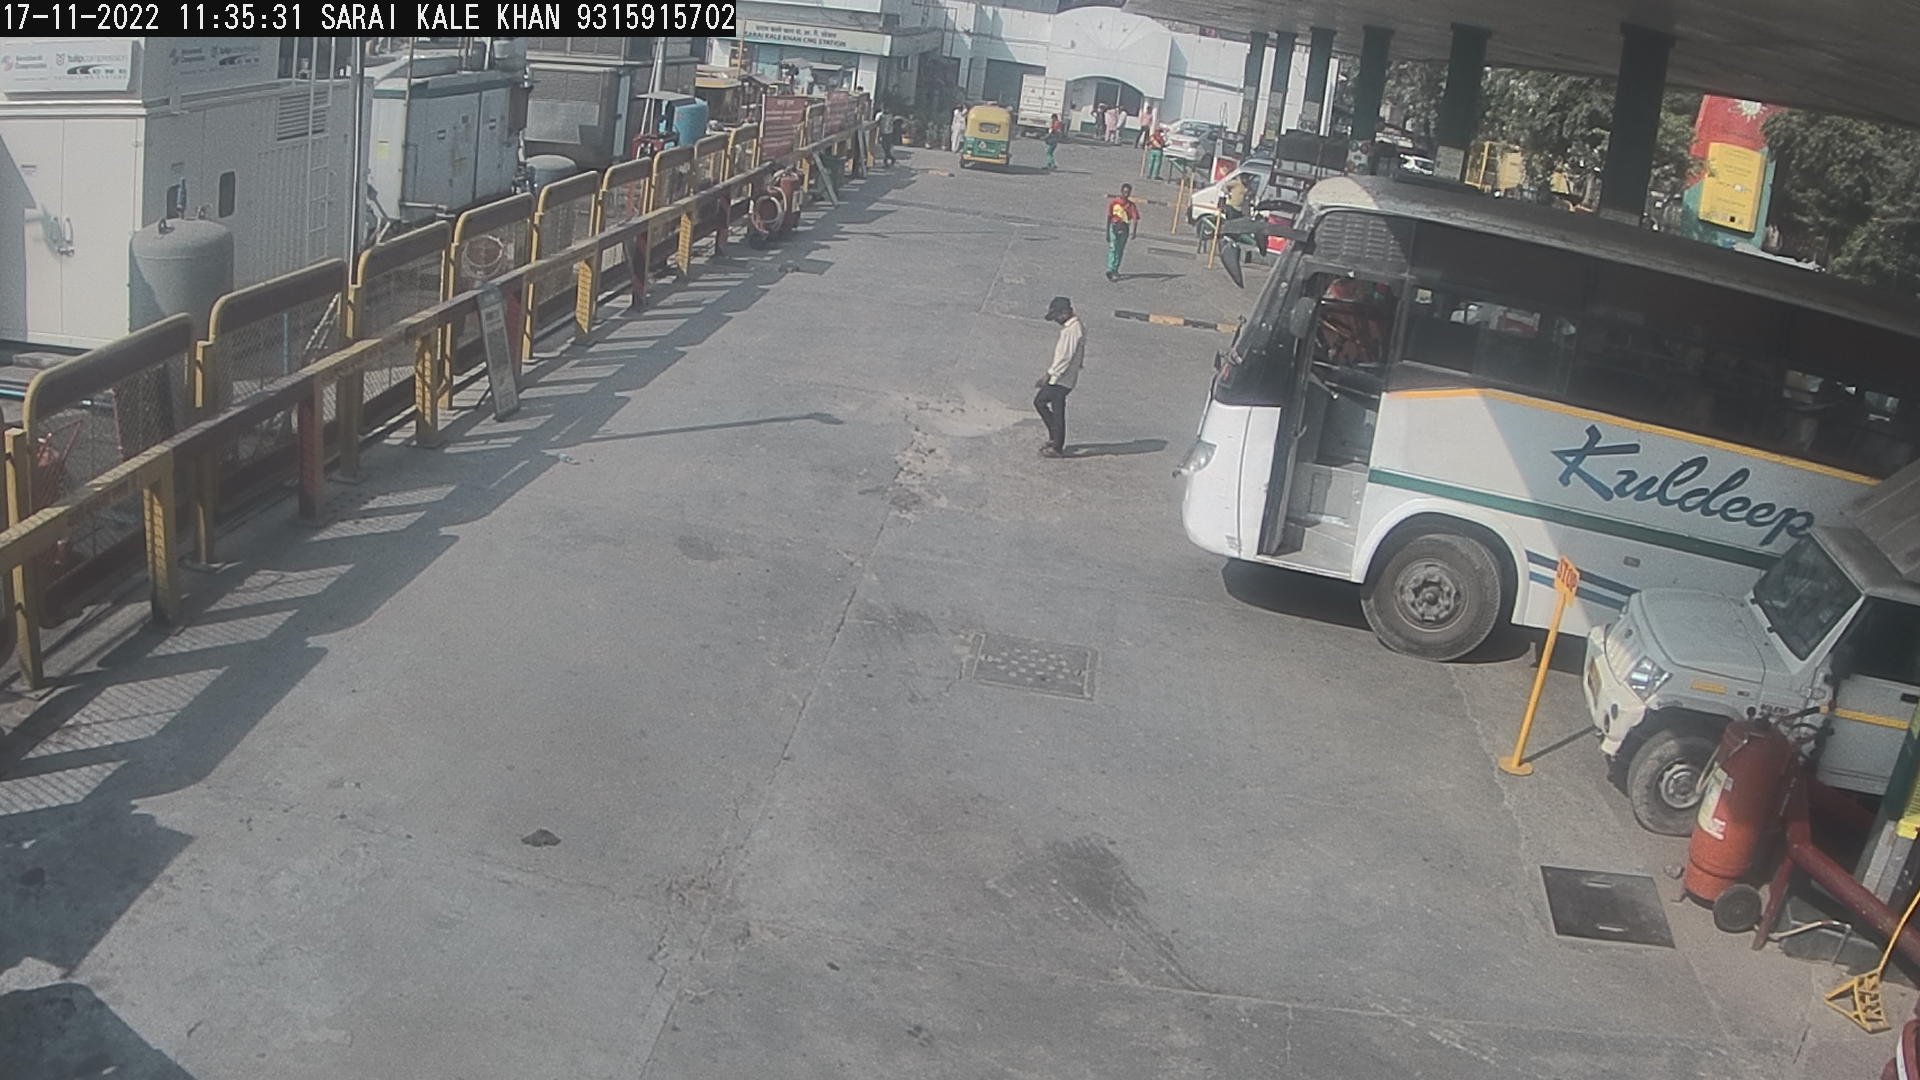Auto: (952, 95, 1036, 196)
Car: (1563, 446, 1917, 878), (1180, 121, 1354, 272), (1141, 100, 1247, 191)
HMV: (1162, 146, 1917, 700), (1836, 897, 1915, 1077), (998, 57, 1089, 158)
Others: (1097, 173, 1142, 290), (1138, 120, 1176, 186), (1038, 104, 1068, 177)
Others Other: (1493, 551, 1586, 779), (1164, 167, 1193, 248), (1203, 187, 1228, 273)
